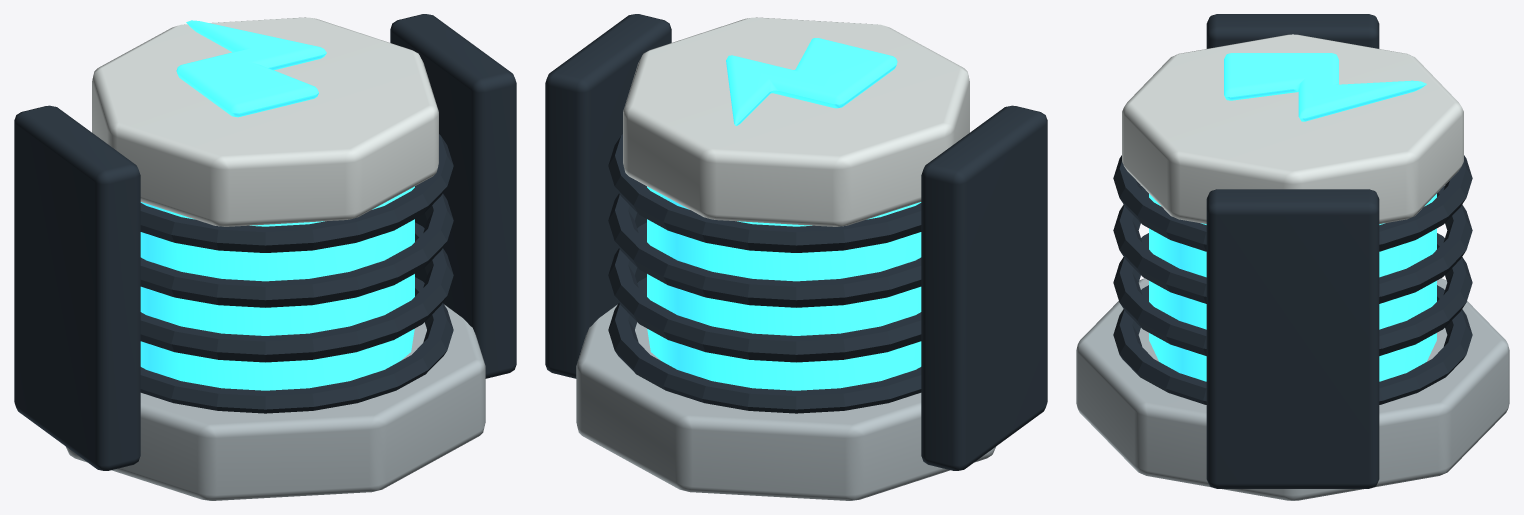
File: ReactorCell114.fbx
3 renders of one model, left to right at view 1: azimuth 30°, elevation 25°; view 2: azimuth 150°, elevation 25°; view 3: azimuth 270°, elevation 25°, orthographic. The views are drawn at different scales.
Visible parts, largest first — view 1: Energy cell top cap, Cell carrying cage, Energy cell lower cap, Cell carrying cage.001, Cyan induction core, Induction coil.001, Induction coil.002, Induction coil.003, Induction coil, Charge arrow; view 2: Energy cell top cap, Cell carrying cage, Energy cell lower cap, Cell carrying cage.001, Cyan induction core, Induction coil.001, Induction coil.002, Induction coil.003, Induction coil, Charge arrow; view 3: Cell carrying cage.001, Energy cell top cap, Energy cell lower cap, Cyan induction core, Charge arrow, Induction coil.001, Induction coil.002, Induction coil, Induction coil.003, Cell carrying cage.
Part boxes in pixels (x1=…): Energy cell top cap: x1=92, y1=17, x2=438, y2=226; Cell carrying cage: x1=14, y1=105, x2=140, y2=470; Energy cell lower cap: x1=66, y1=304, x2=485, y2=500; Cell carrying cage.001: x1=390, y1=14, x2=516, y2=378; Cyan induction core: x1=140, y1=186, x2=414, y2=390; Induction coil.001: x1=140, y1=222, x2=453, y2=362; Induction coil.002: x1=140, y1=186, x2=453, y2=307; Induction coil.003: x1=140, y1=134, x2=453, y2=252; Induction coil: x1=140, y1=277, x2=453, y2=413; Charge arrow: x1=176, y1=20, x2=326, y2=117; Energy cell top cap: x1=623, y1=17, x2=969, y2=226; Cell carrying cage: x1=921, y1=105, x2=1047, y2=470; Energy cell lower cap: x1=576, y1=304, x2=995, y2=500; Cell carrying cage.001: x1=545, y1=14, x2=671, y2=378; Cyan induction core: x1=647, y1=186, x2=921, y2=390; Induction coil.001: x1=608, y1=222, x2=921, y2=362; Induction coil.002: x1=608, y1=186, x2=921, y2=307; Induction coil.003: x1=608, y1=134, x2=921, y2=252; Induction coil: x1=608, y1=277, x2=921, y2=413; Charge arrow: x1=726, y1=38, x2=897, y2=125; Cell carrying cage.001: x1=1206, y1=189, x2=1379, y2=488; Energy cell top cap: x1=1122, y1=34, x2=1463, y2=223; Energy cell lower cap: x1=1076, y1=278, x2=1509, y2=500; Cyan induction core: x1=1149, y1=194, x2=1436, y2=381; Charge arrow: x1=1224, y1=53, x2=1426, y2=121; Induction coil.001: x1=1113, y1=233, x2=1472, y2=355; Induction coil.002: x1=1113, y1=185, x2=1472, y2=303; Induction coil: x1=1113, y1=285, x2=1472, y2=404; Induction coil.003: x1=1113, y1=155, x2=1472, y2=251; Cell carrying cage: x1=1206, y1=14, x2=1379, y2=48.
Bounding box in the file's own units: 80.5 × 63.5 × 75.19.
